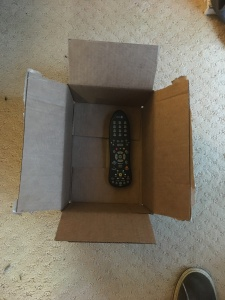innerbox: (63, 82, 152, 213)
outerbox: (26, 39, 190, 242)
product: (109, 110, 131, 189)
